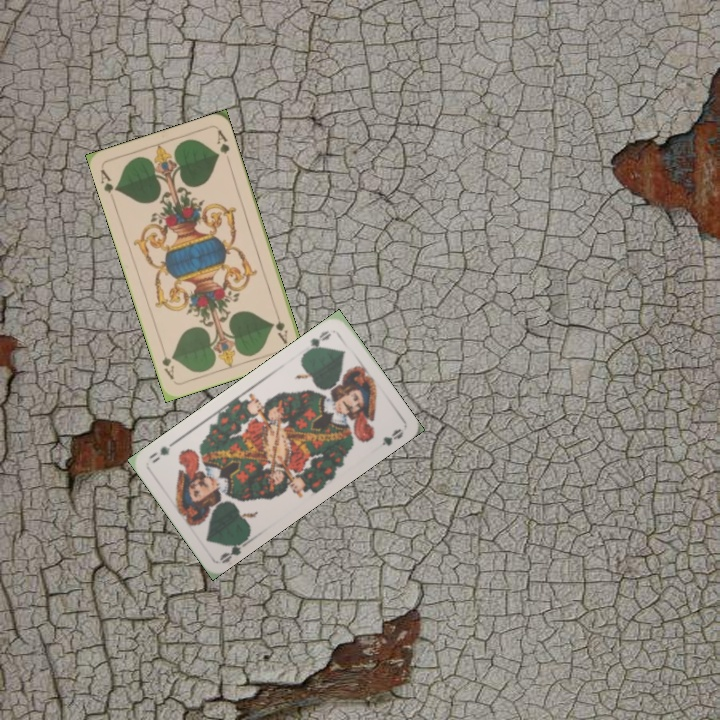GA: (270, 306, 290, 346), (96, 165, 121, 196)
GO: (216, 532, 253, 566), (301, 326, 334, 356)
